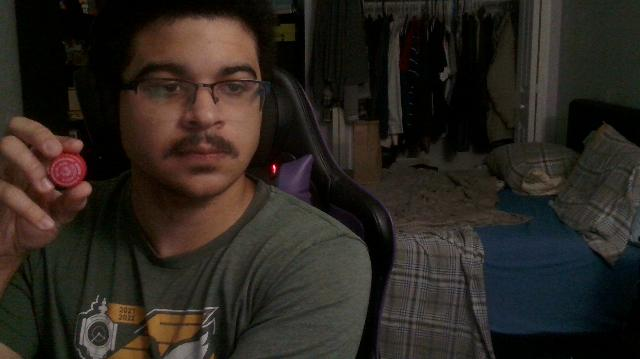cap: (49, 152, 87, 188)
